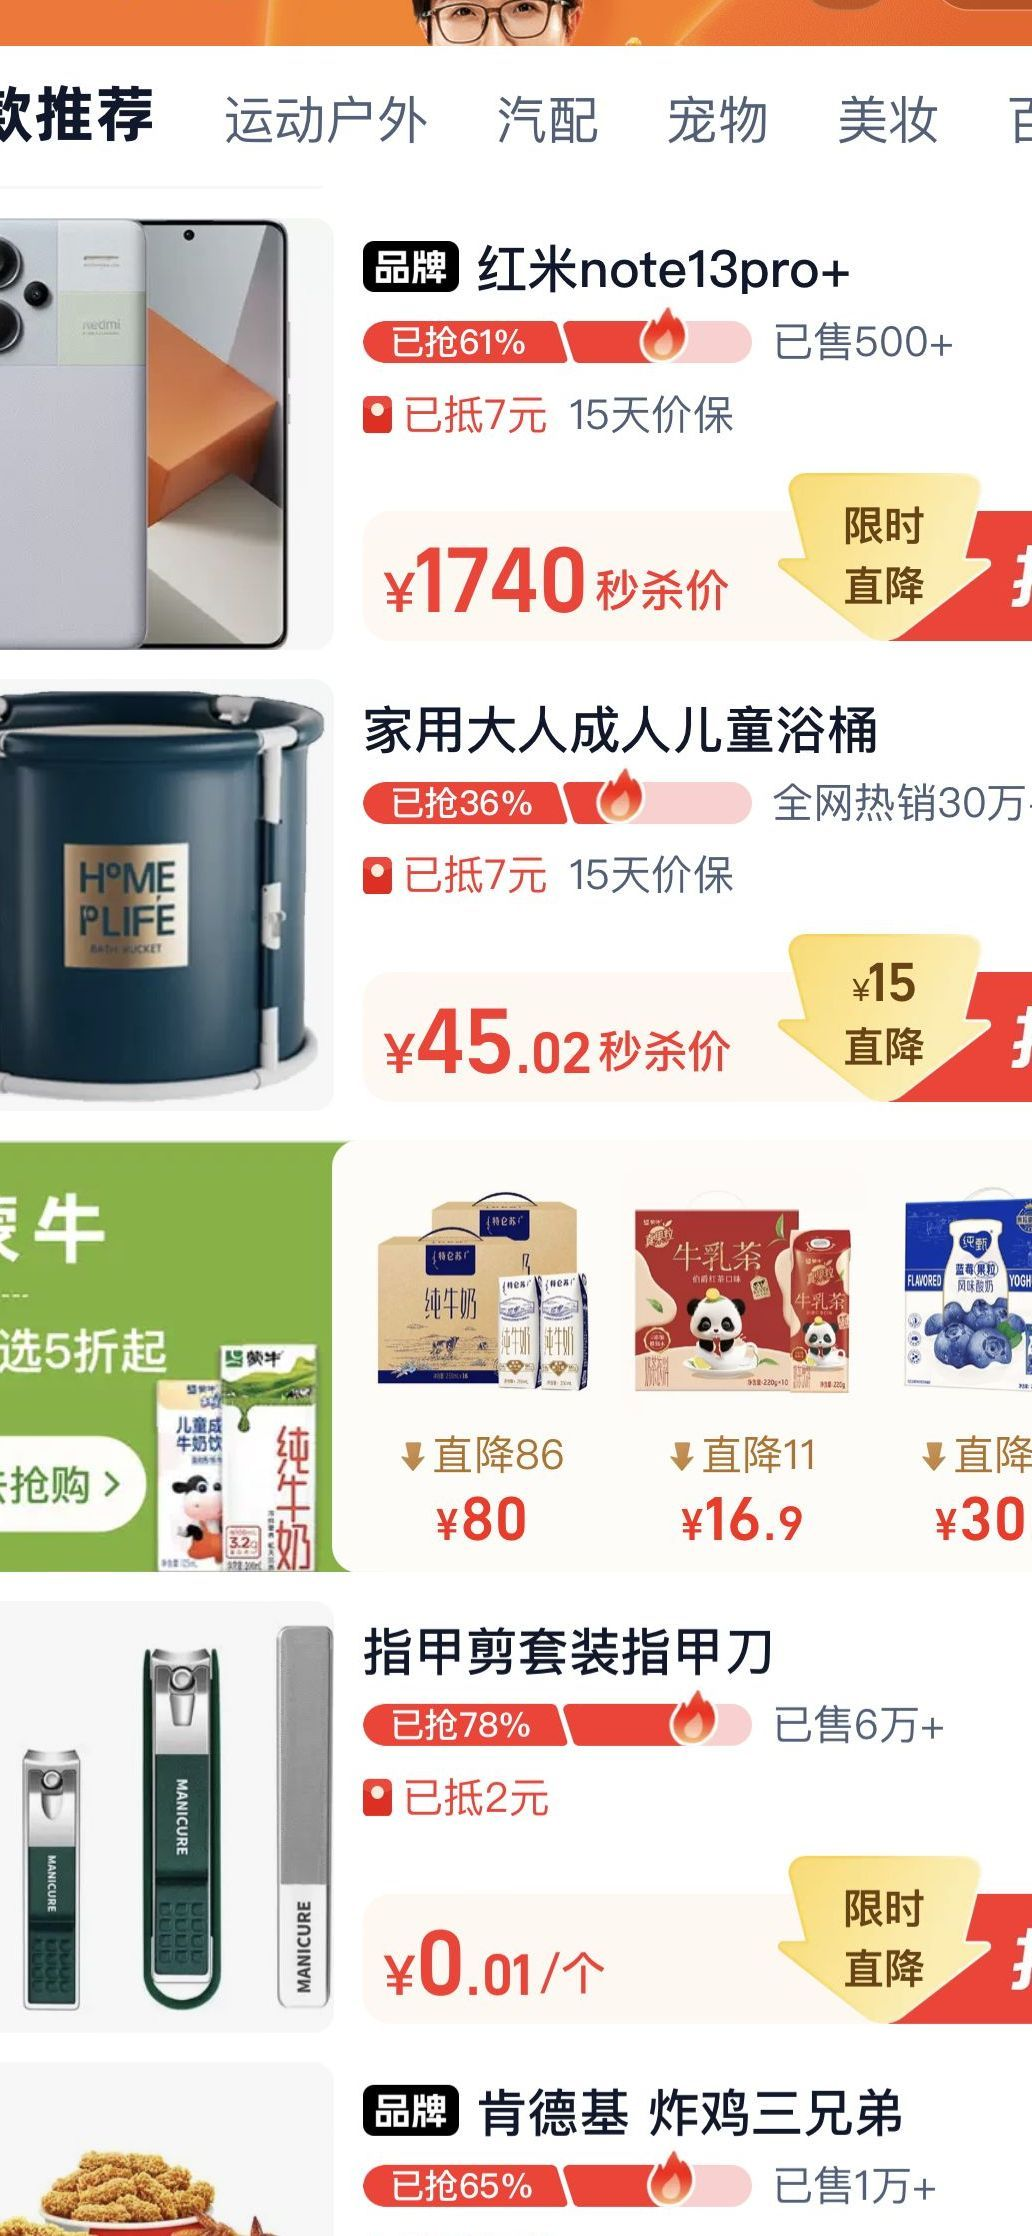banner: (3, 1142, 1032, 1601)
item: (3, 200, 1026, 642), (6, 1599, 1032, 2028), (1, 669, 1023, 1097)
